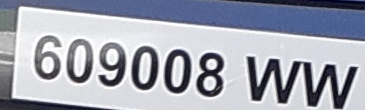0: (63, 36, 96, 86), (162, 45, 193, 96), (129, 44, 160, 94)
6: (34, 33, 63, 81)
8: (195, 51, 226, 99)
9: (97, 40, 127, 89)
w: (242, 53, 301, 106), (302, 57, 361, 109)
